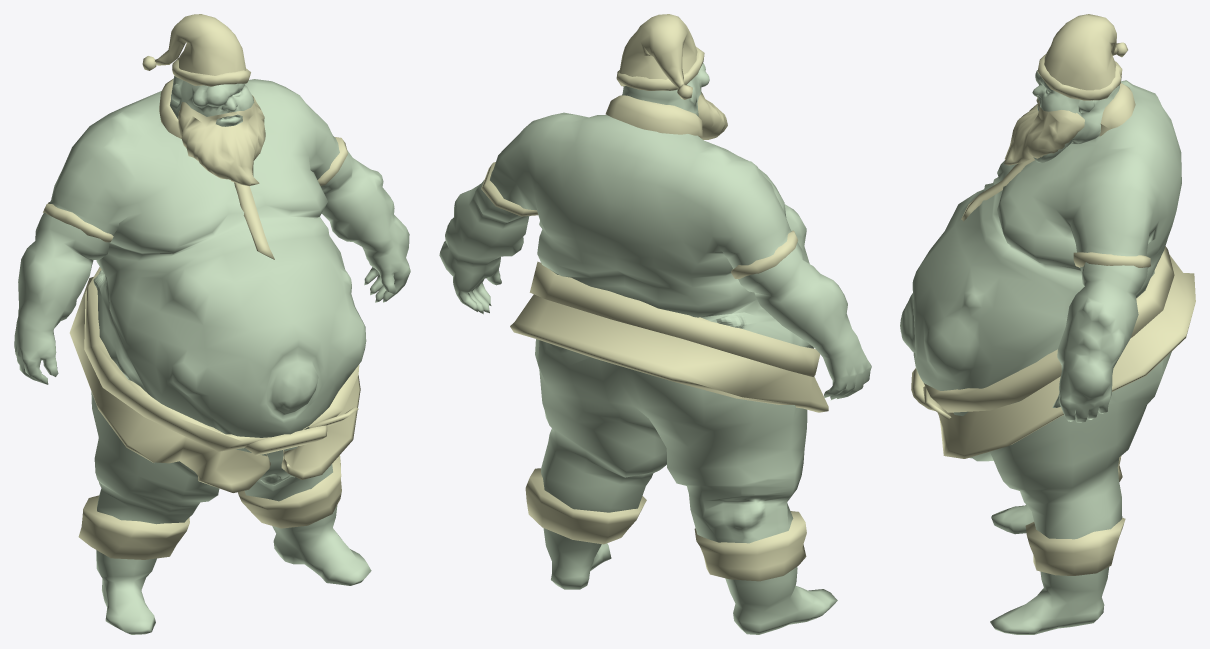
Rendered from Boomer-Santa_fbx.fbx.
The picture shows the model from 3 angles, left to right: view 1: azimuth 30°, elevation 25°; view 2: azimuth 150°, elevation 25°; view 3: azimuth 270°, elevation 25°; orthographic projection. The views are drawn at different scales.
Visible parts, largest first — view 1: boomer_reference; view 2: boomer_reference; view 3: boomer_reference.
Part boxes in pixels (<box>): boomer_reference: <box>14,14,410,634</box>; boomer_reference: <box>439,14,871,634</box>; boomer_reference: <box>900,14,1195,634</box>.
Bounding box in the file's own units: 169 × 229 × 110.
